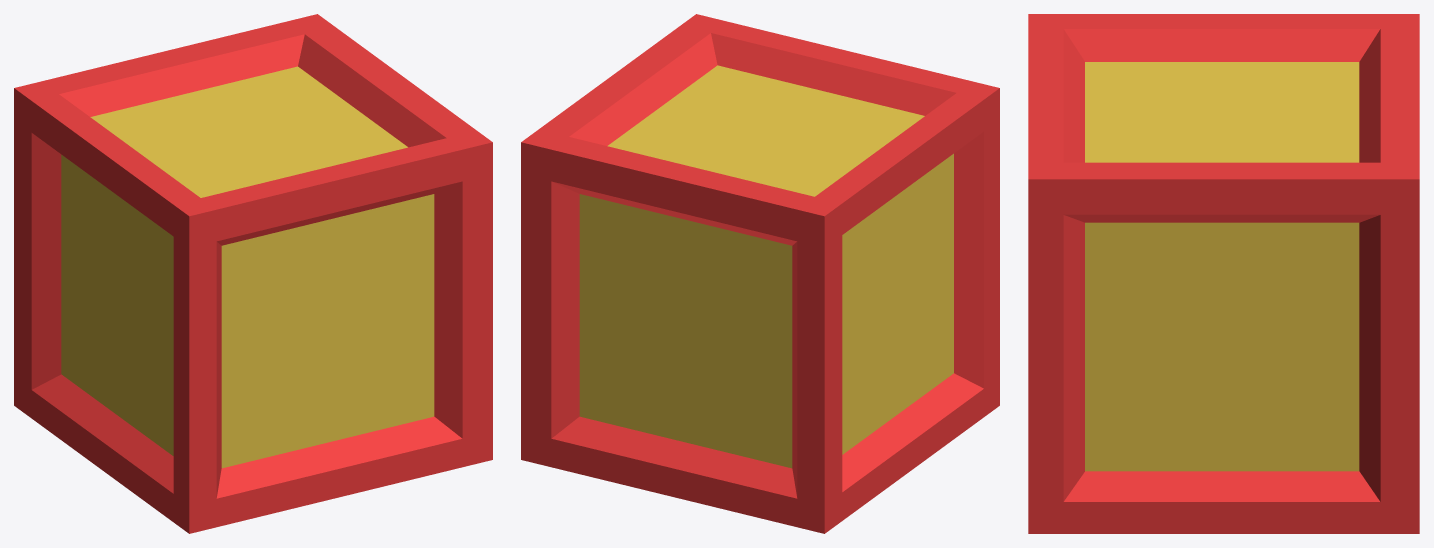
The model's file is corecubecentered 1.fbx.
3 renders of one model, left to right at view 1: azimuth 30°, elevation 25°; view 2: azimuth 150°, elevation 25°; view 3: azimuth 270°, elevation 25°, orthographic. The views are drawn at different scales.
Parts seen in each view (by area): view 1: core1; view 2: core1; view 3: core1.
Part boxes in pixels (bbox=[...]): core1: bbox=[14, 14, 492, 533]; core1: bbox=[521, 14, 999, 533]; core1: bbox=[1028, 14, 1419, 533].
Bounding box in the file's own units: 1.16 × 1.16 × 1.16.
